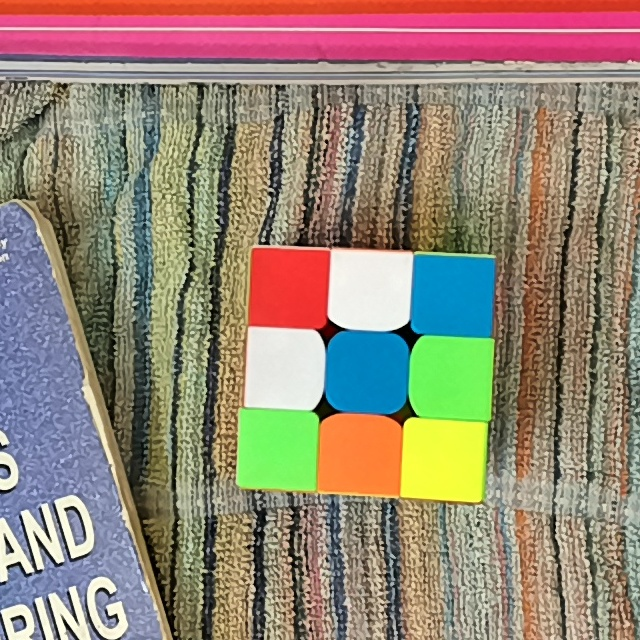tile: (418, 262, 490, 328), (254, 254, 322, 321), (243, 414, 310, 482), (327, 422, 395, 489), (408, 427, 477, 493), (419, 346, 489, 410), (335, 341, 401, 407), (251, 335, 317, 401), (335, 257, 404, 320)
